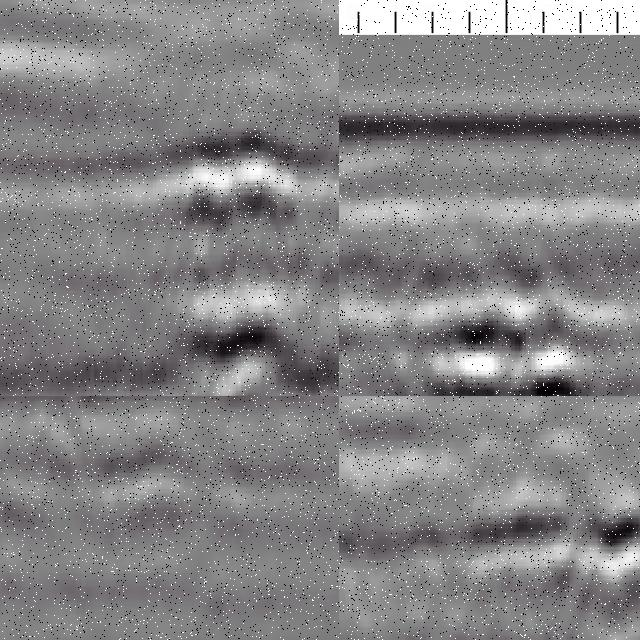loose: (169, 96, 311, 397), (1, 397, 287, 544), (472, 490, 640, 640), (397, 293, 619, 397)
